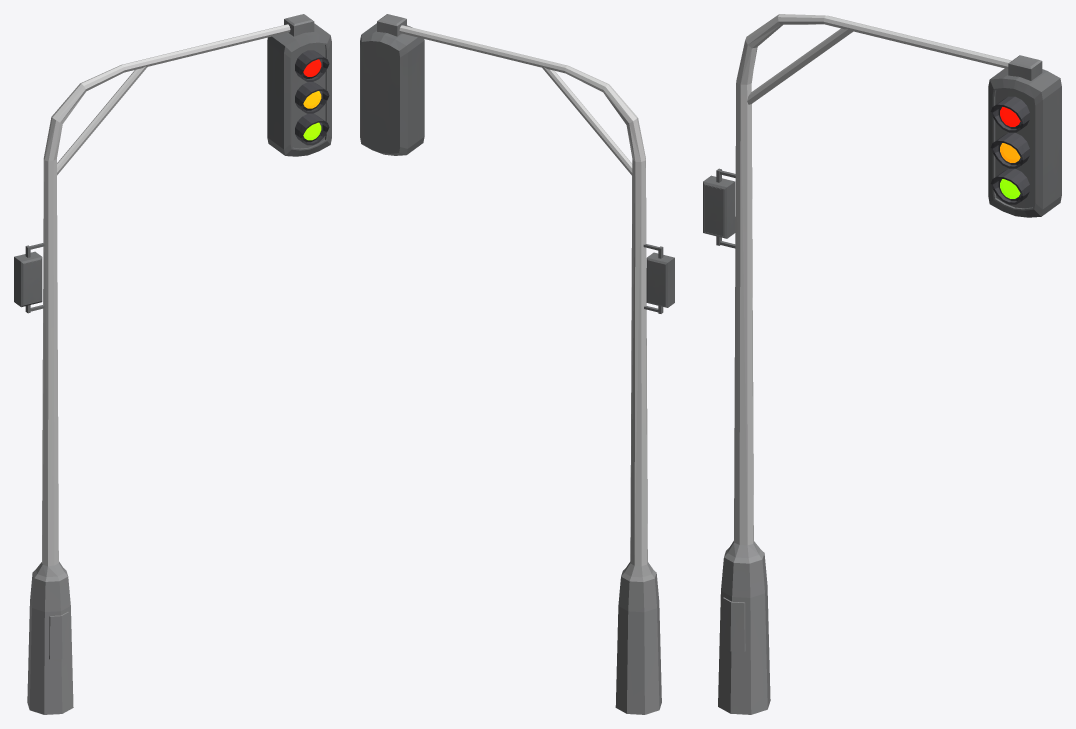
Rendered from traffic_light_1.dae.
3 views of the same model, side by side, from view 1: azimuth 30°, elevation 25°; view 2: azimuth 150°, elevation 25°; view 3: azimuth 330°, elevation 25° (orthographic). The views are drawn at different scales.
Visible parts, largest first — view 1: pole, traffic_light, thingy; view 2: pole, traffic_light, thingy; view 3: pole, traffic_light, thingy.
Boxes of the visible parts, x1,y1,x2,y2 form: pole: (27, 14, 314, 714); traffic_light: (267, 23, 331, 156); thingy: (14, 243, 44, 313); pole: (377, 14, 661, 714); traffic_light: (360, 23, 424, 155); thingy: (643, 244, 674, 313); pole: (718, 14, 1042, 714); traffic_light: (988, 68, 1061, 217); thingy: (703, 168, 735, 248).
Size of the model in its own units: 3.25 by 0.5881 by 6.38.
Materials: 4 (1 with a texture image).
